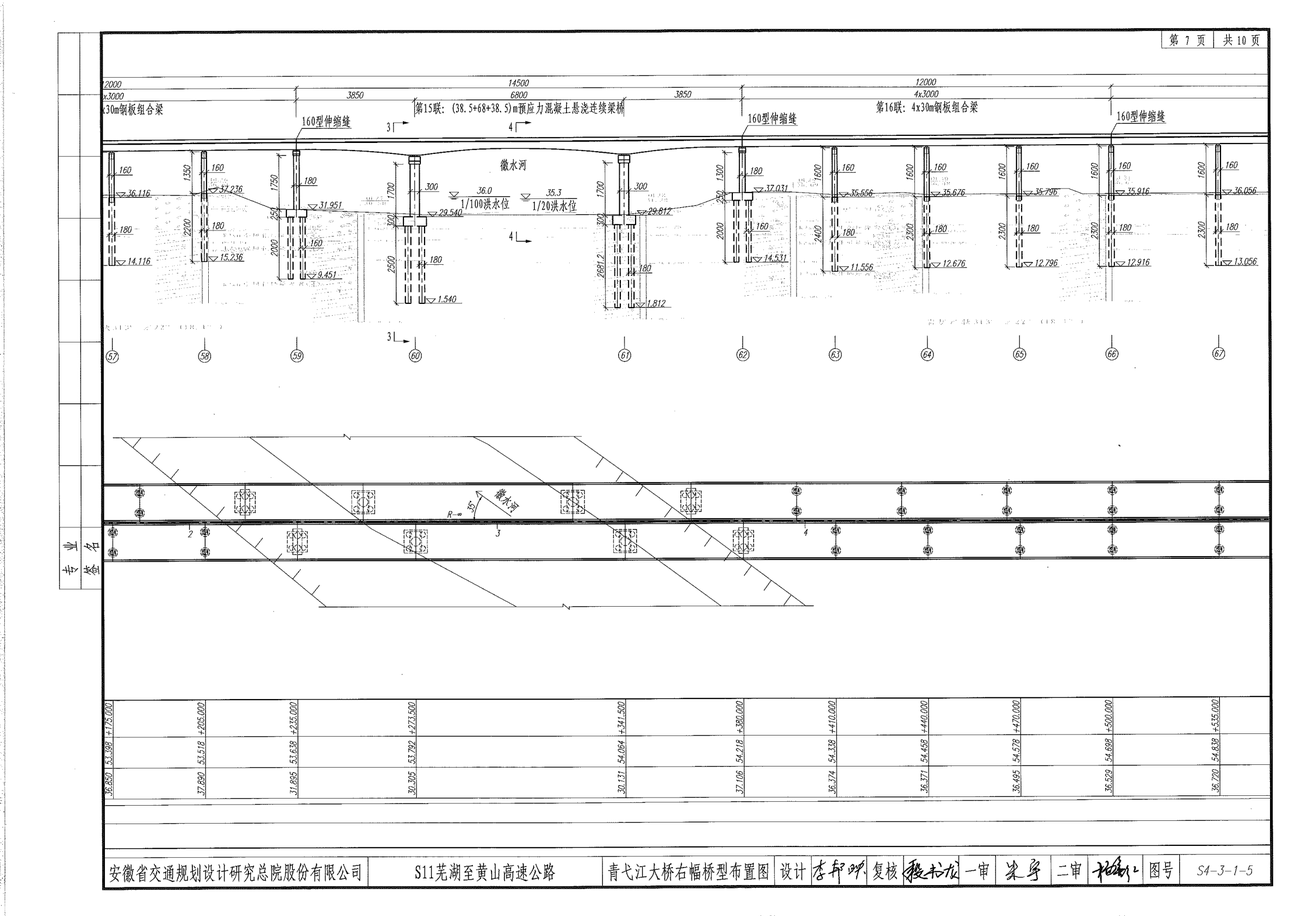A: (86, 44, 1269, 368)
